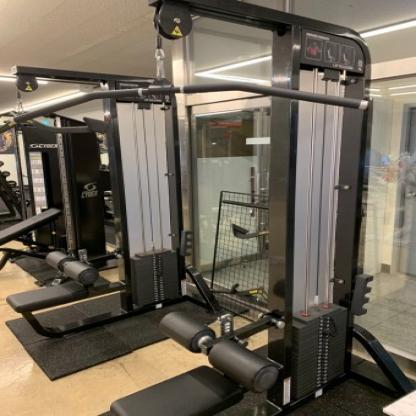Lat Pull Down: (10, 0, 396, 416)
